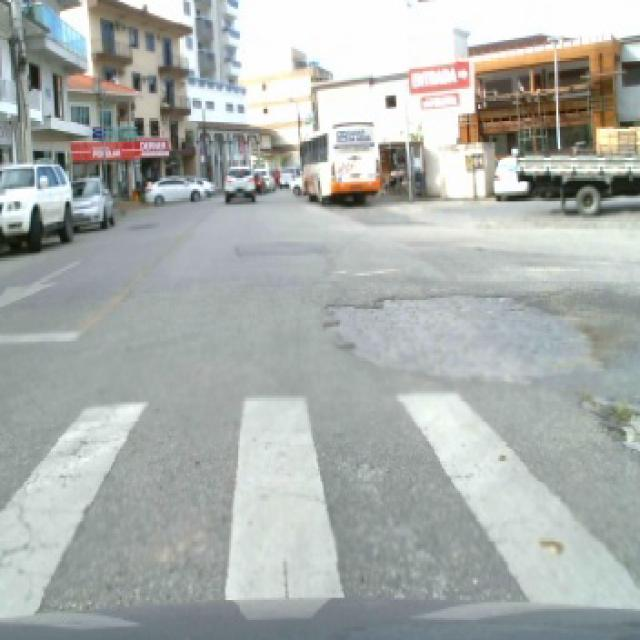Poth-hole: (318, 286, 609, 386), (574, 386, 636, 456)
